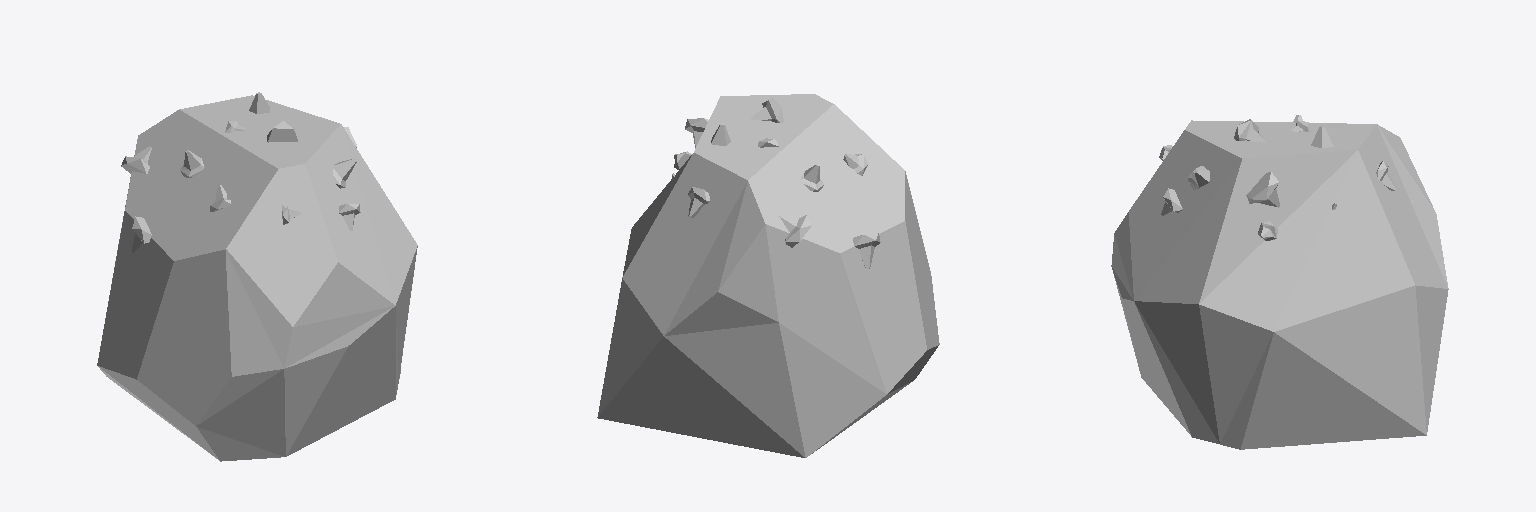
The model's file is smallcookierock.obj.
The picture shows the model from 3 angles: view 1: azimuth 30°, elevation 25°; view 2: azimuth 150°, elevation 25°; view 3: azimuth 270°, elevation 25°; orthographic projection.
Parts seen in each view (by area): view 1: Cookie, Chunks; view 2: Cookie, Chunks; view 3: Cookie, Chunks.
Part boxes in pixels (x1,y1,x2,y2): Cookie: (97,95,417,461); Chunks: (121,92,360,253); Cookie: (597,94,939,457); Chunks: (672,98,880,268); Cookie: (1111,120,1448,449); Chunks: (1159,115,1395,240).
Bounding box in the file's own units: 5.97 × 5.83 × 6.25.